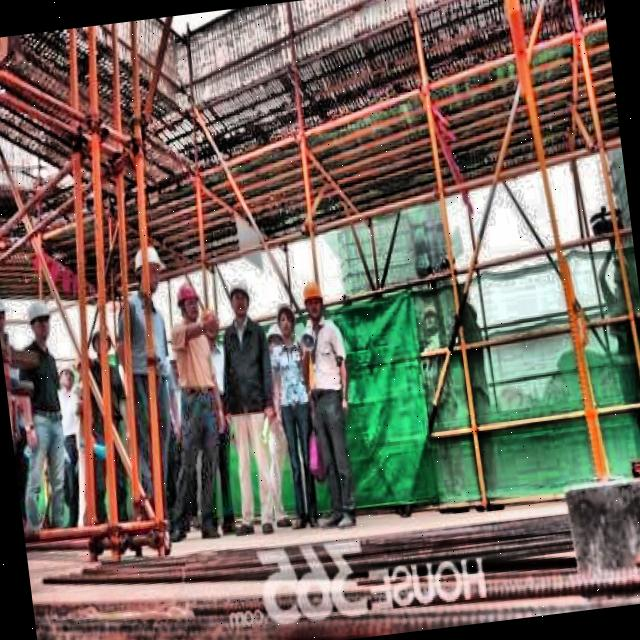helmet: (130, 238, 169, 300), (24, 296, 56, 346), (224, 274, 253, 324), (174, 279, 202, 326), (86, 315, 113, 362), (302, 278, 328, 326), (272, 298, 300, 342), (262, 320, 288, 358), (54, 356, 78, 395)
